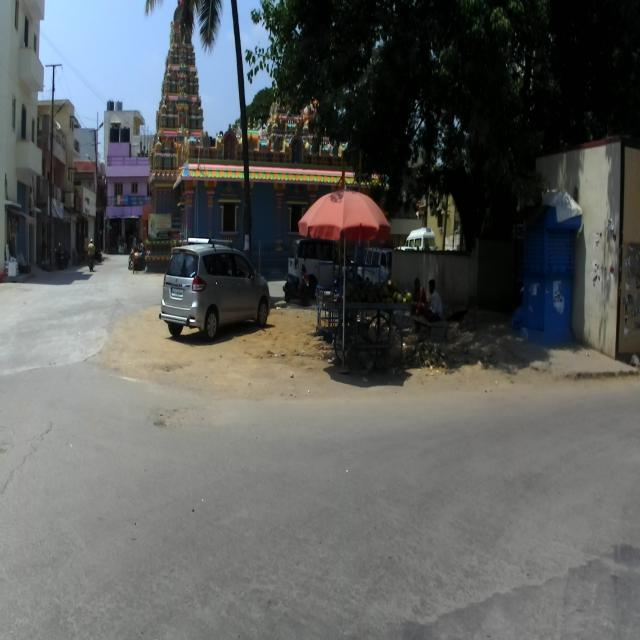car ahead at: (163, 236, 271, 345)
